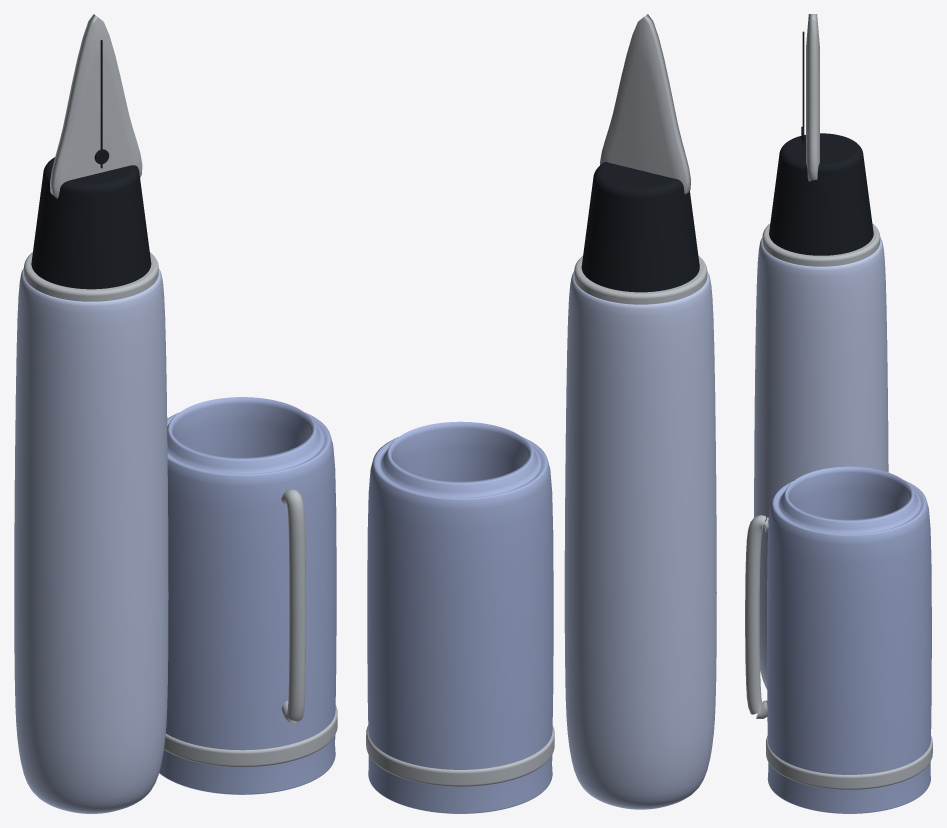
The model's file is fountain-pen.glb.
3 views of the same model, side by side, from view 1: azimuth 30°, elevation 25°; view 2: azimuth 150°, elevation 25°; view 3: azimuth 270°, elevation 25° (orthographic). The views are drawn at different scales.
Parts seen in each view (by area): view 1: hollow-pen-barrel-with-open-bore, hollow-pen-cap, assembled-writing-pen-004, sculpted-fountain-nib, fitted-open-pen-cap-011, fitted-open-pen-cap-010, assembled-writing-pen-005; view 2: hollow-pen-barrel-with-open-bore, hollow-pen-cap, assembled-writing-pen-004, sculpted-fountain-nib, fitted-open-pen-cap-010, assembled-writing-pen-005; view 3: hollow-pen-cap, hollow-pen-barrel-with-open-bore, assembled-writing-pen-004, fitted-open-pen-cap-011, fitted-open-pen-cap-010, sculpted-fountain-nib, assembled-writing-pen-005.
Part boxes in pixels (<box>): hollow-pen-barrel-with-open-bore: <box>14,268,168,813</box>; hollow-pen-cap: <box>159,397,336,794</box>; assembled-writing-pen-004: <box>31,157,151,289</box>; sculpted-fountain-nib: <box>50,14,142,198</box>; fitted-open-pen-cap-011: <box>281,489,305,724</box>; fitted-open-pen-cap-010: <box>164,705,337,767</box>; assembled-writing-pen-005: <box>24,252,158,301</box>; hollow-pen-barrel-with-open-bore: <box>564,271,716,809</box>; hollow-pen-cap: <box>367,421,553,813</box>; assembled-writing-pen-004: <box>581,162,699,292</box>; sculpted-fountain-nib: <box>600,14,690,194</box>; fitted-open-pen-cap-010: <box>366,725,554,786</box>; assembled-writing-pen-005: <box>574,256,707,304</box>; hollow-pen-cap: <box>767,466,931,813</box>; hollow-pen-barrel-with-open-bore: <box>754,237,888,689</box>; assembled-writing-pen-004: <box>769,133,873,255</box>; fitted-open-pen-cap-011: <box>745,515,768,718</box>; fitted-open-pen-cap-010: <box>766,736,932,789</box>; sculpted-fountain-nib: <box>806,14,819,181</box>; assembled-writing-pen-005: <box>762,223,880,266</box>.
Bounding box in the file's own units: 0.8317 × 2 × 0.4897.
